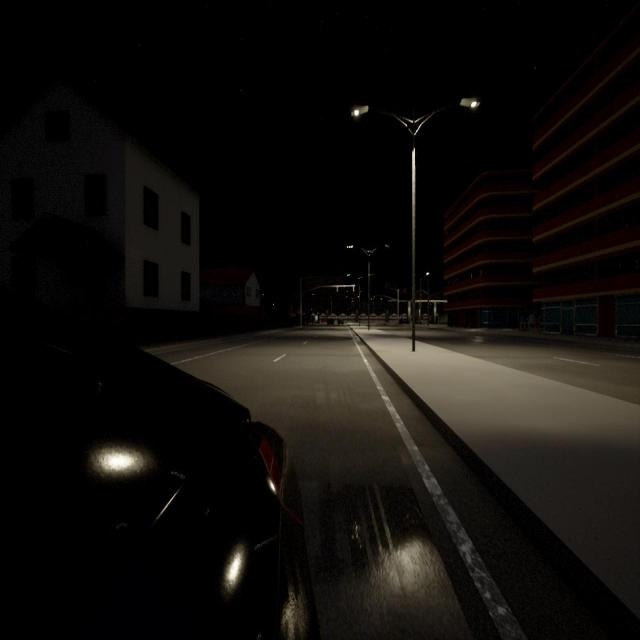Vehicle: (0, 290, 299, 638), (399, 317, 408, 324), (327, 318, 334, 324), (338, 319, 343, 325)
traffic_light: (337, 287, 338, 292), (353, 287, 354, 292), (370, 298, 372, 300), (381, 298, 382, 300)
